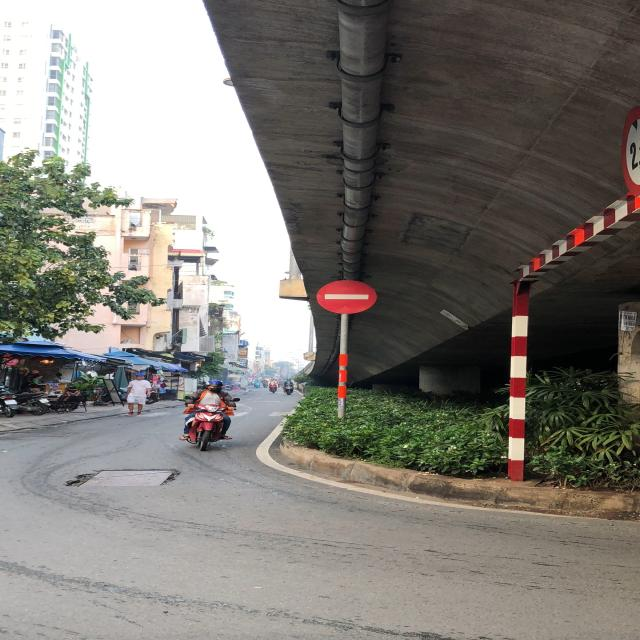Bien bao cam di nguoc chieu: (307, 278, 379, 320)
